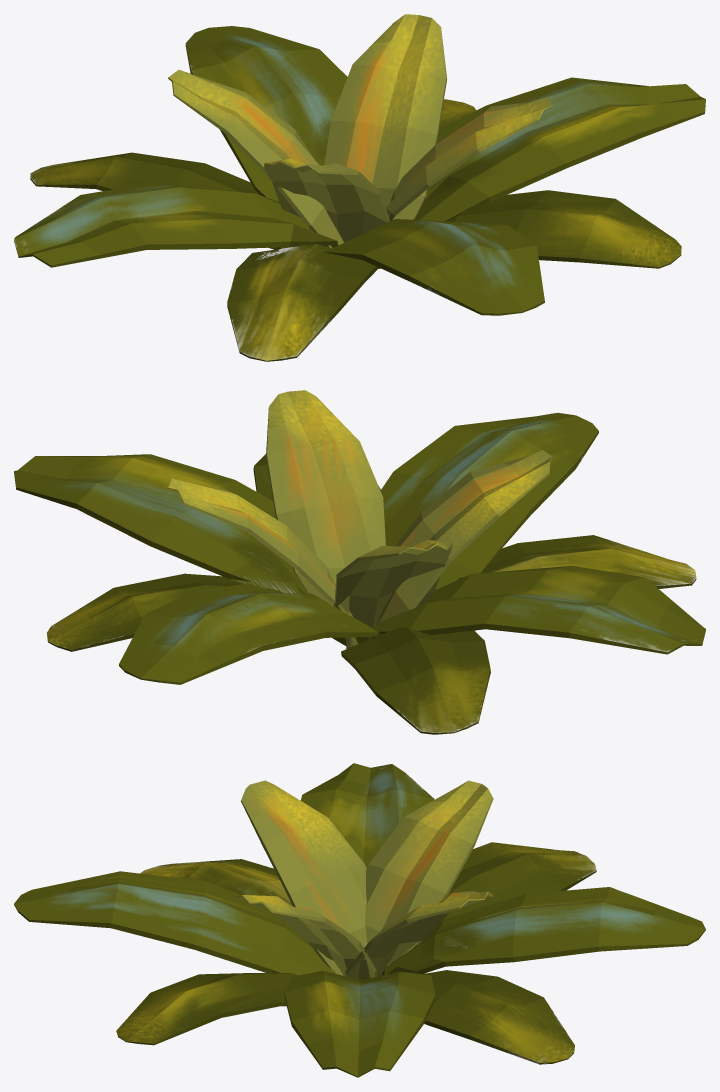
Rendered from MATA 02.fbx.
3 views of the same model, one above another, from view 1: azimuth 30°, elevation 25°; view 2: azimuth 150°, elevation 25°; view 3: azimuth 270°, elevation 25° (orthographic). The views are drawn at different scales.
Visible parts, largest first — view 1: Plane.003, Plane.010, Plane.005; view 2: Plane.003, Plane.010, Plane.005; view 3: Plane.003, Plane.010, Plane.005.
Boxes of the visible parts, box(x1,y1,x2,y2) form: Plane.003: box(14, 26, 705, 315); Plane.010: box(168, 14, 552, 248); Plane.005: box(30, 99, 681, 361); Plane.003: box(14, 412, 705, 684); Plane.010: box(167, 390, 552, 648); Plane.005: box(47, 454, 696, 734); Plane.003: box(14, 763, 705, 1077); Plane.010: box(236, 780, 493, 979); Plane.005: box(116, 842, 596, 1064).
Bounding box in the file's own units: 585 × 145 × 554.
